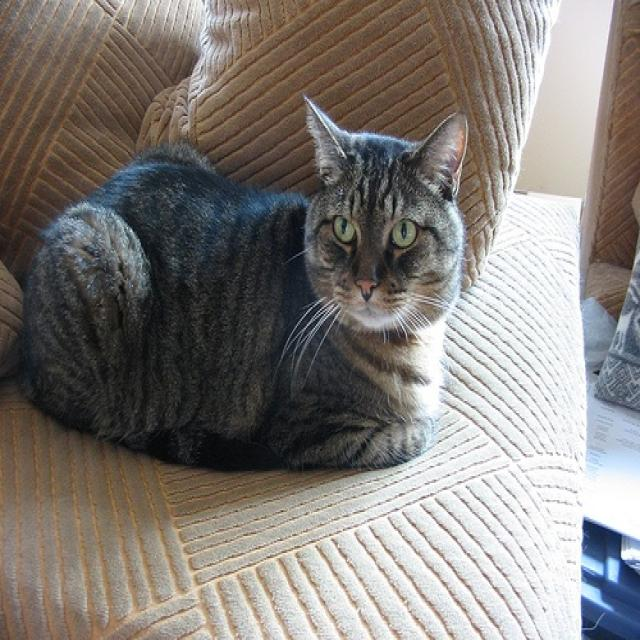cat: (19, 94, 470, 469)
